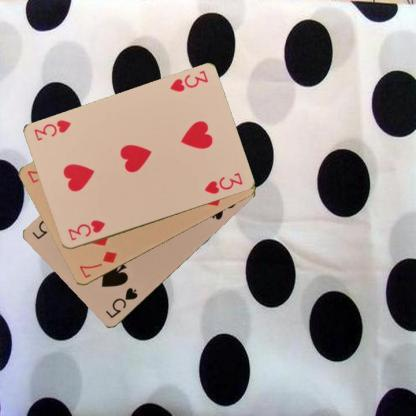3h: (167, 68, 209, 94), (65, 217, 106, 242)
5s: (103, 286, 139, 320)
7d: (76, 248, 118, 280)
